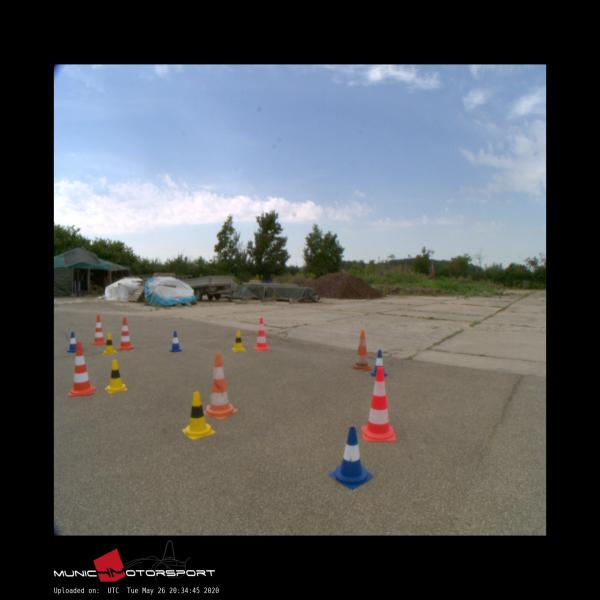blue_cone: (329, 427, 372, 487), (370, 350, 387, 376), (67, 331, 80, 352), (170, 331, 182, 351)
large_orange_cone: (360, 365, 396, 441), (202, 352, 238, 419), (68, 342, 95, 395), (350, 329, 371, 370), (117, 317, 135, 349), (253, 317, 270, 349), (92, 315, 106, 344)
yellow_cone: (182, 391, 214, 438), (105, 358, 127, 394), (232, 331, 246, 351), (102, 334, 116, 353)
